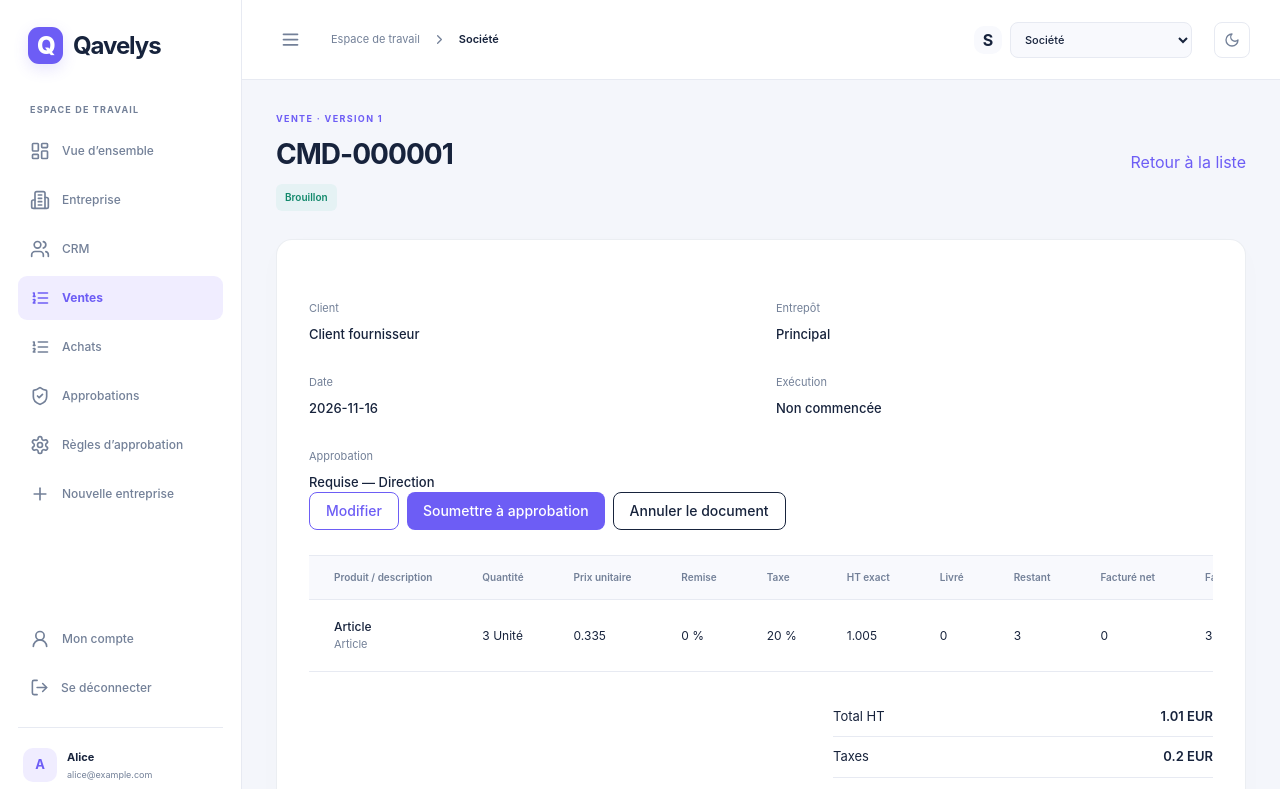
Scenario: Commandes et approbations connectées › soumet, approuve une version avec commentaire puis autorise la confirmation
This screenshot has width=1280, height=789.
Expected: the button "Confirmer la commande" is not shown
Step 1. Click the button "Soumettre à approbation" → (506, 511), box [407,492,604,530]
(page scrolled)
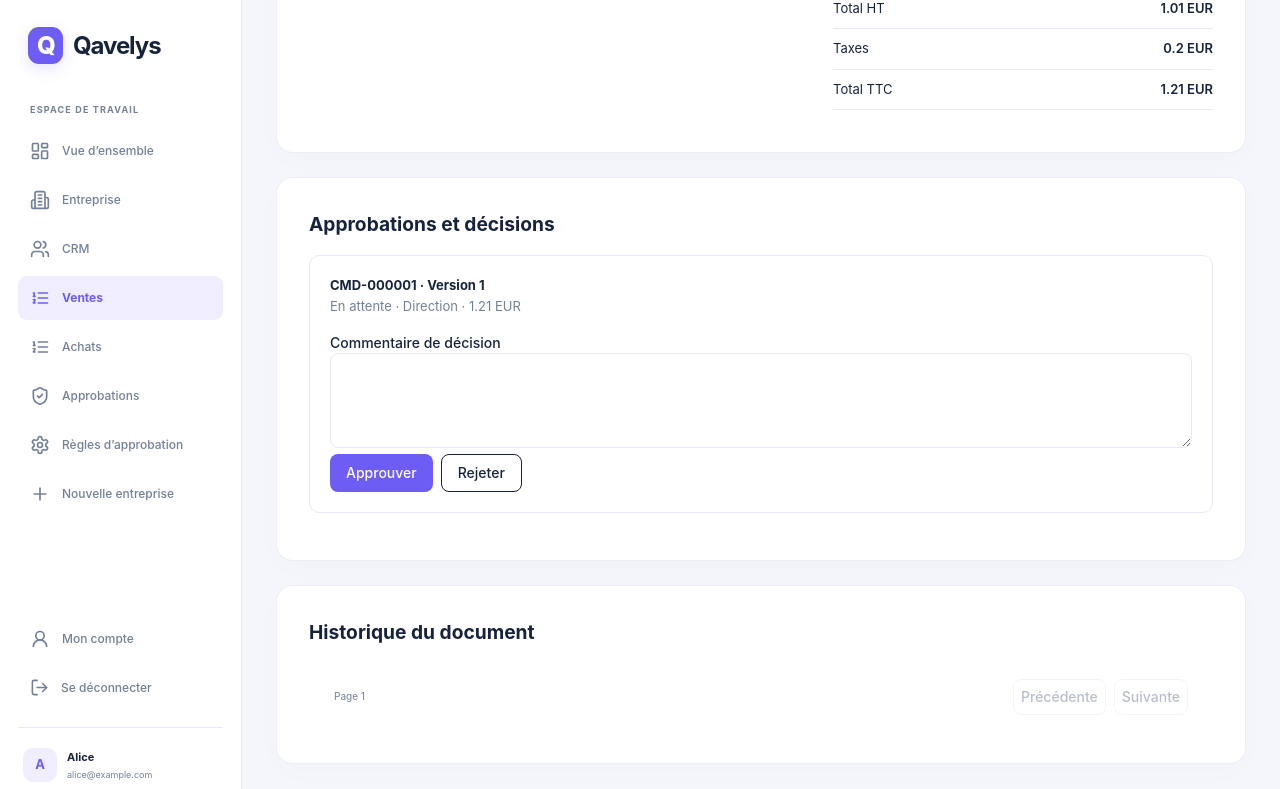
Step 2. Type "Budget validé" into the text box labelled "Commentaire de décision" → (761, 401), box [330,354,1192,448]
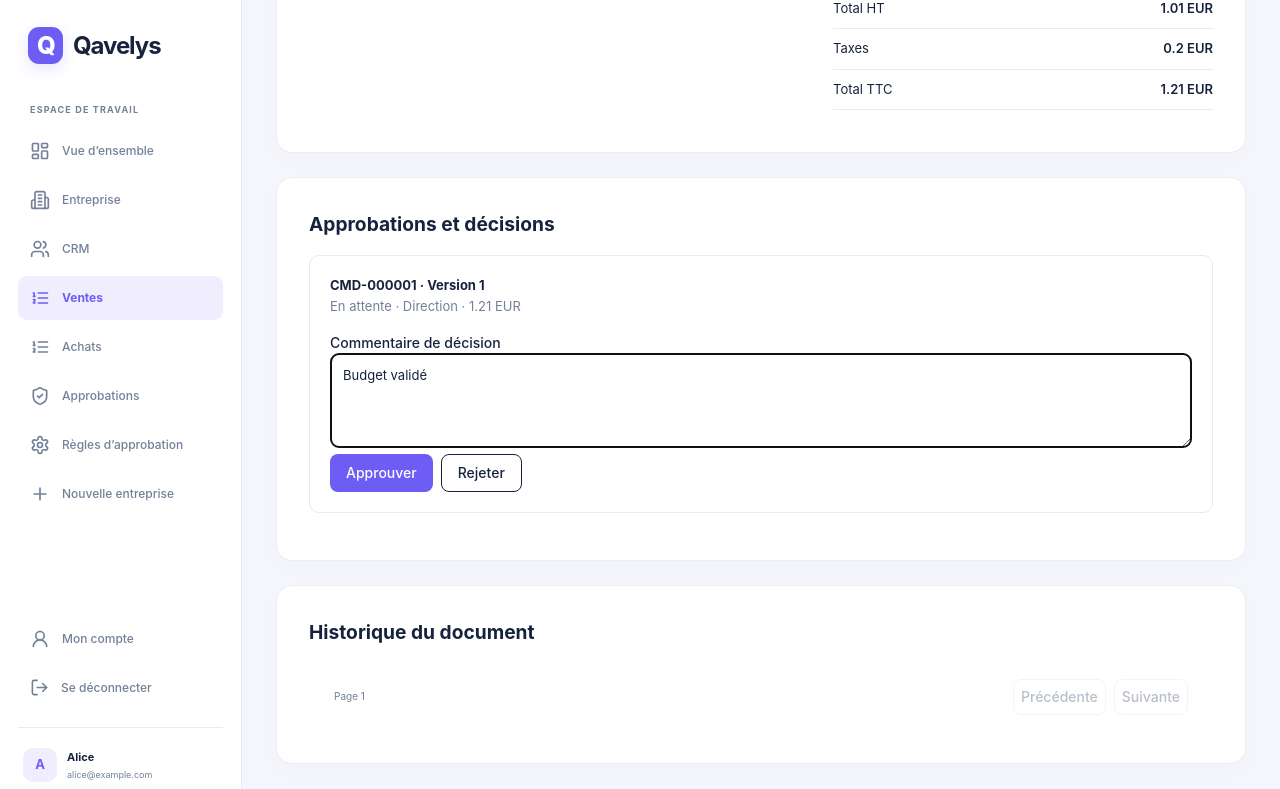
Step 3. Click the button "Approuver" → (381, 473), box [330,454,433,492]
(page scrolled)
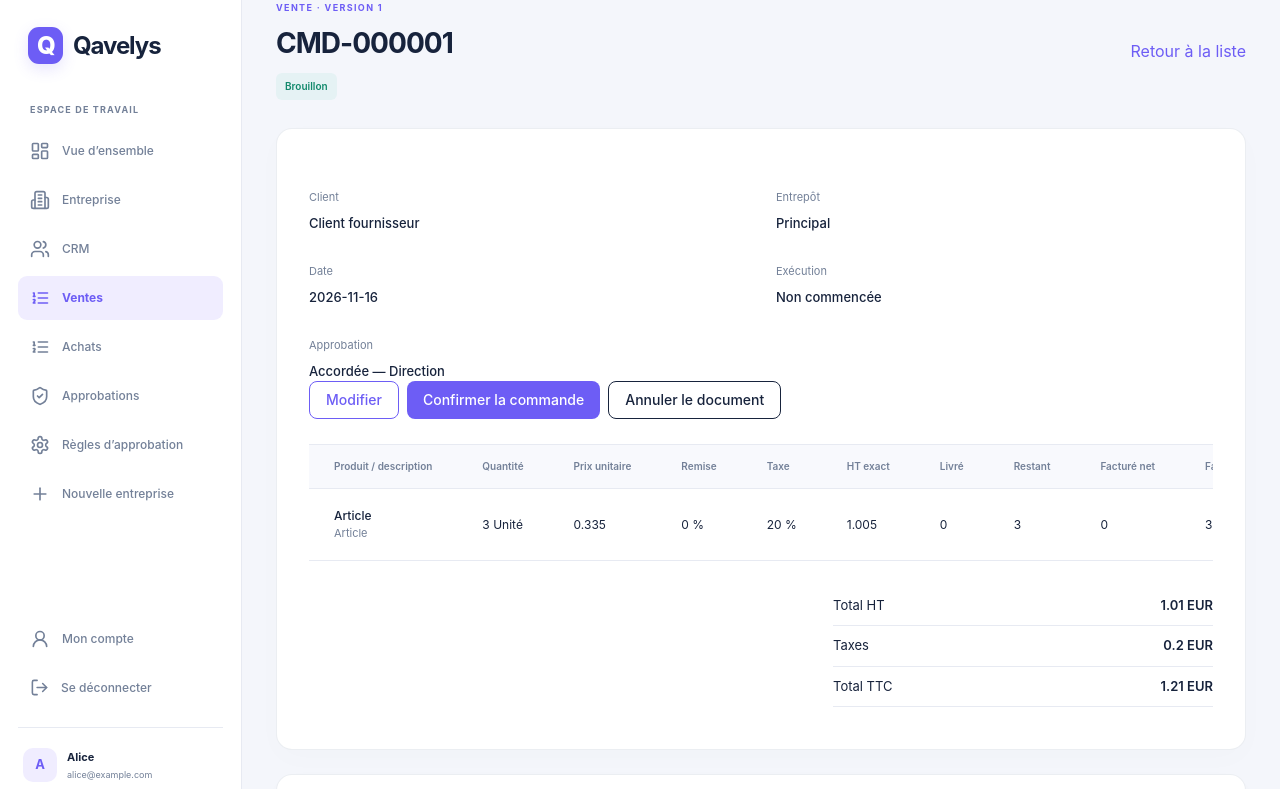
Now the button "Confirmer la commande" is shown, box [407,381,600,419]
